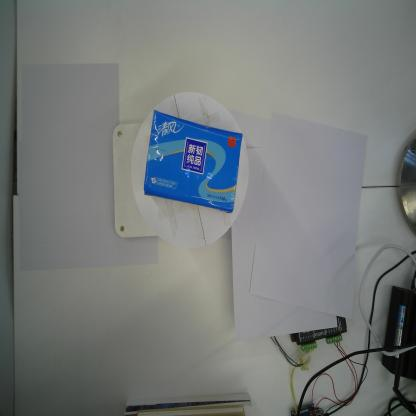Tissue: (142, 108, 244, 215)
